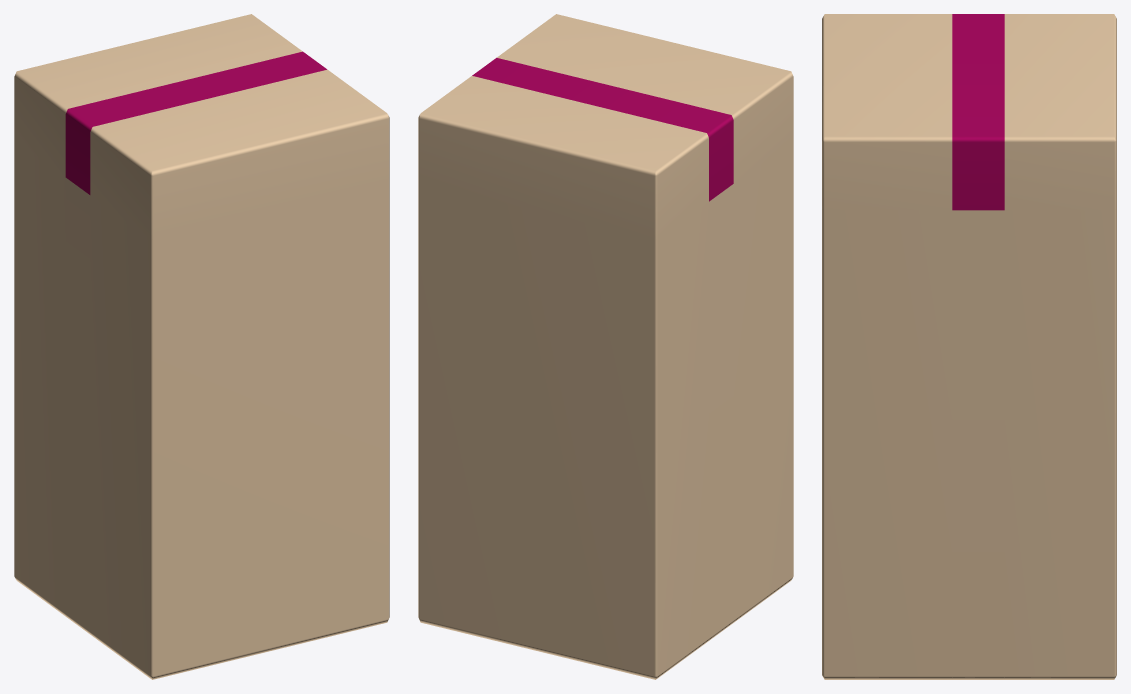
The model's file is caja de mudanza 2.fbx.
3 renders of one model, left to right at view 1: azimuth 30°, elevation 25°; view 2: azimuth 150°, elevation 25°; view 3: azimuth 270°, elevation 25°, orthographic. The views are drawn at different scales.
Visible parts, largest first — view 1: objeto_interactuable2; view 2: objeto_interactuable2; view 3: objeto_interactuable2.
Part boxes in pixels (<box>): objeto_interactuable2: <box>14,14,389,679</box>; objeto_interactuable2: <box>418,14,793,679</box>; objeto_interactuable2: <box>822,14,1116,679</box>.
Size of the model in its own units: 21.93 by 44.6 by 21.93.
